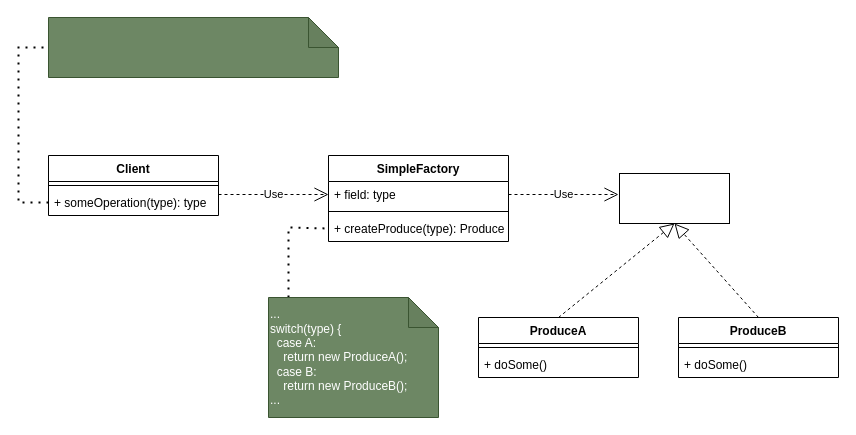
This 856x435 diagram has some shape labels left out. The shapes that lost their labels are listed below. From the top down, each one's centre as x and y in pixels, then its label:
[193,47]: Produce p = SimpleFactory.createProduce(type) p.doSome()
[674,198]: «interface» Produce
